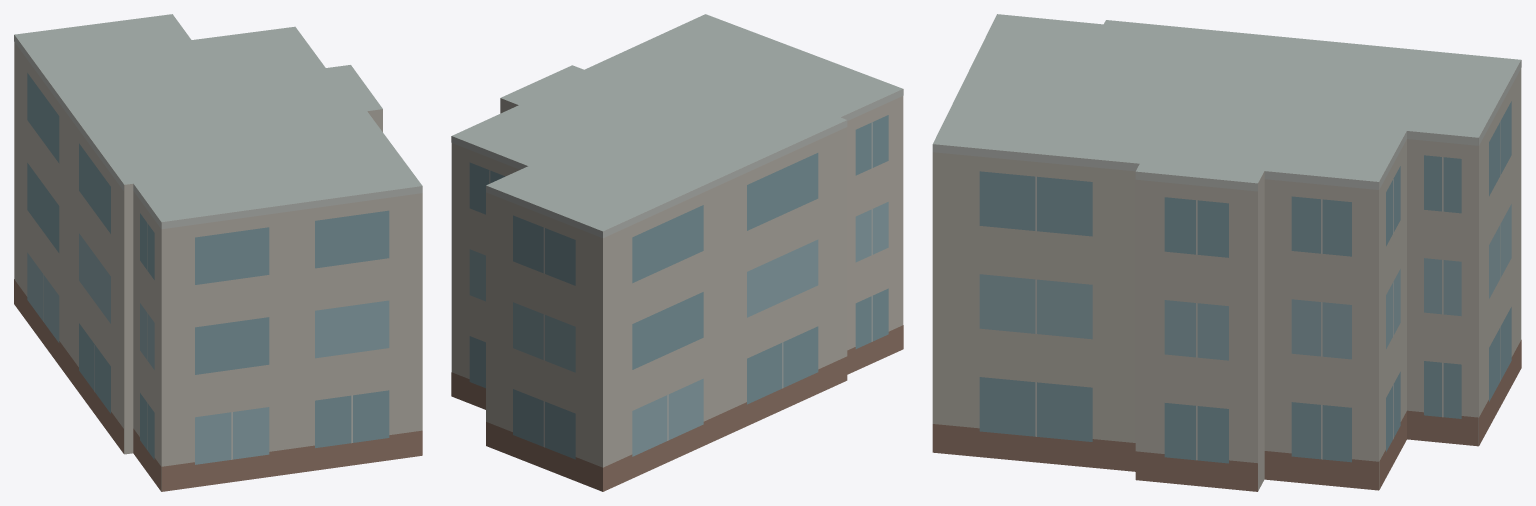
The model's file is survey-upis-32816608.glb.
The picture shows the model from 3 angles, left to right: view 1: azimuth 30°, elevation 25°; view 2: azimuth 150°, elevation 25°; view 3: azimuth 270°, elevation 25°; orthographic projection. The views are drawn at different scales.
Visible parts, largest first — view 1: survey-upis-32816608.tmp; view 2: survey-upis-32816608.tmp; view 3: survey-upis-32816608.tmp.
Part boxes in pixels (bbox=[...]): survey-upis-32816608.tmp: bbox=[14, 14, 422, 491]; survey-upis-32816608.tmp: bbox=[451, 14, 903, 491]; survey-upis-32816608.tmp: bbox=[932, 14, 1521, 491].
Bounding box in the file's own units: 10.96 × 9.3 × 16.1.
